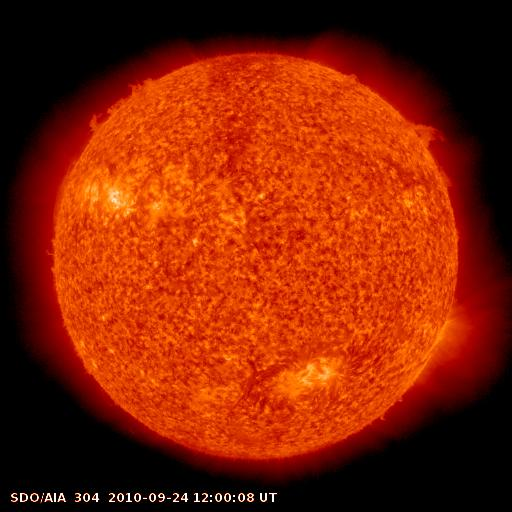prominence: (80, 68, 165, 134), (408, 114, 462, 198), (43, 158, 79, 241), (339, 60, 371, 92)
